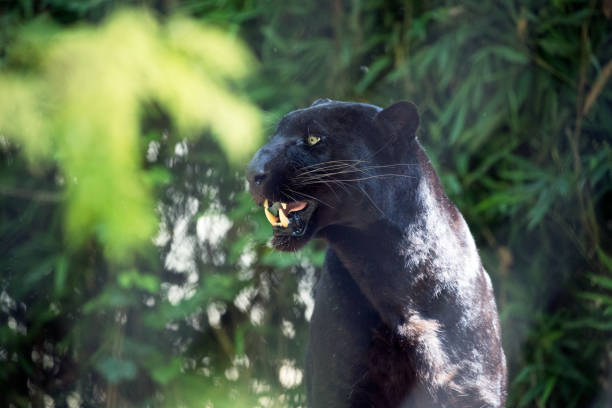panther: (238, 92, 436, 264)
